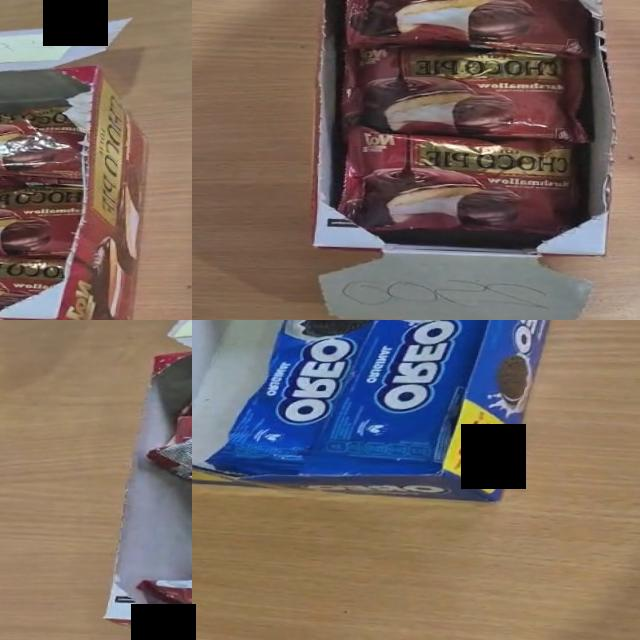Chocopie: (334, 126, 582, 237), (340, 43, 594, 141), (342, 0, 595, 54), (0, 99, 87, 185), (0, 181, 85, 261), (145, 356, 192, 496), (0, 247, 67, 320), (136, 567, 192, 627), (0, 172, 81, 199)
Oreo: (298, 320, 528, 484), (205, 320, 415, 481)
